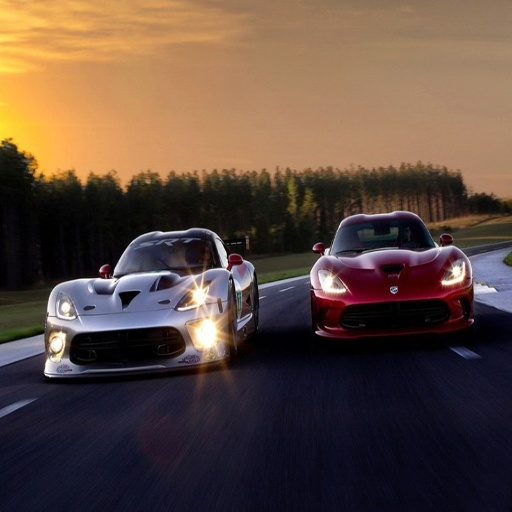back_bumper: (314, 285, 470, 336)
front_bumper: (47, 296, 193, 376)
